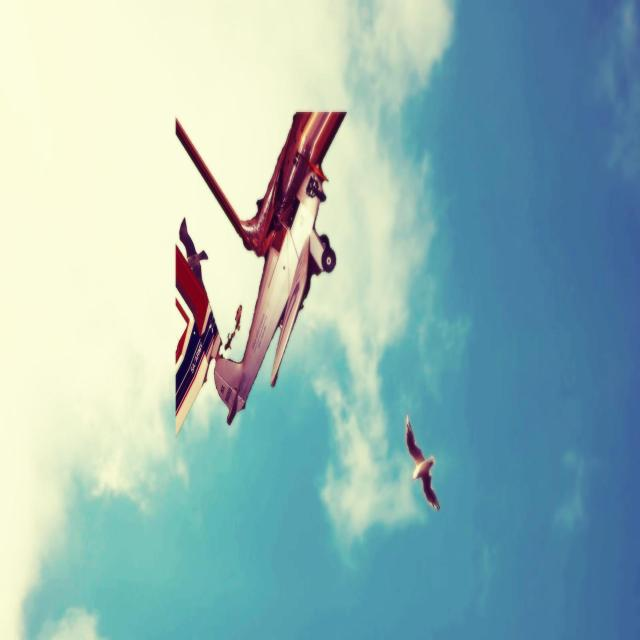airplane: (173, 109, 347, 436)
